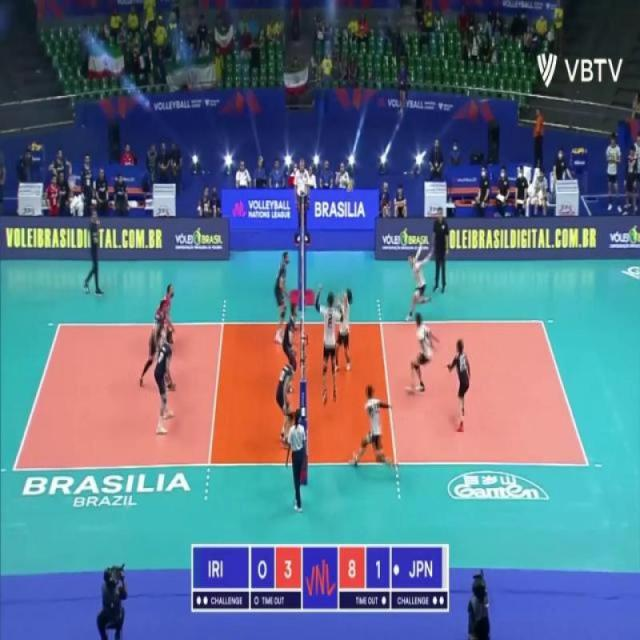volleyball: (346, 180, 354, 193)
